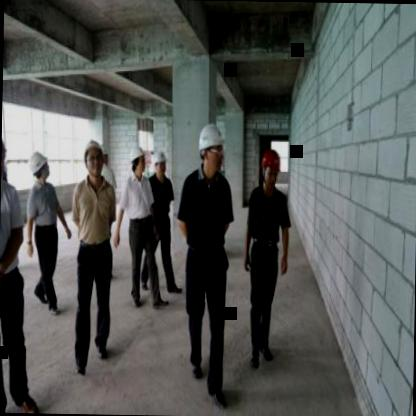helmet: (195, 118, 227, 177), (256, 145, 281, 196), (26, 145, 54, 186), (82, 136, 103, 178), (128, 140, 149, 182), (150, 142, 170, 184)
